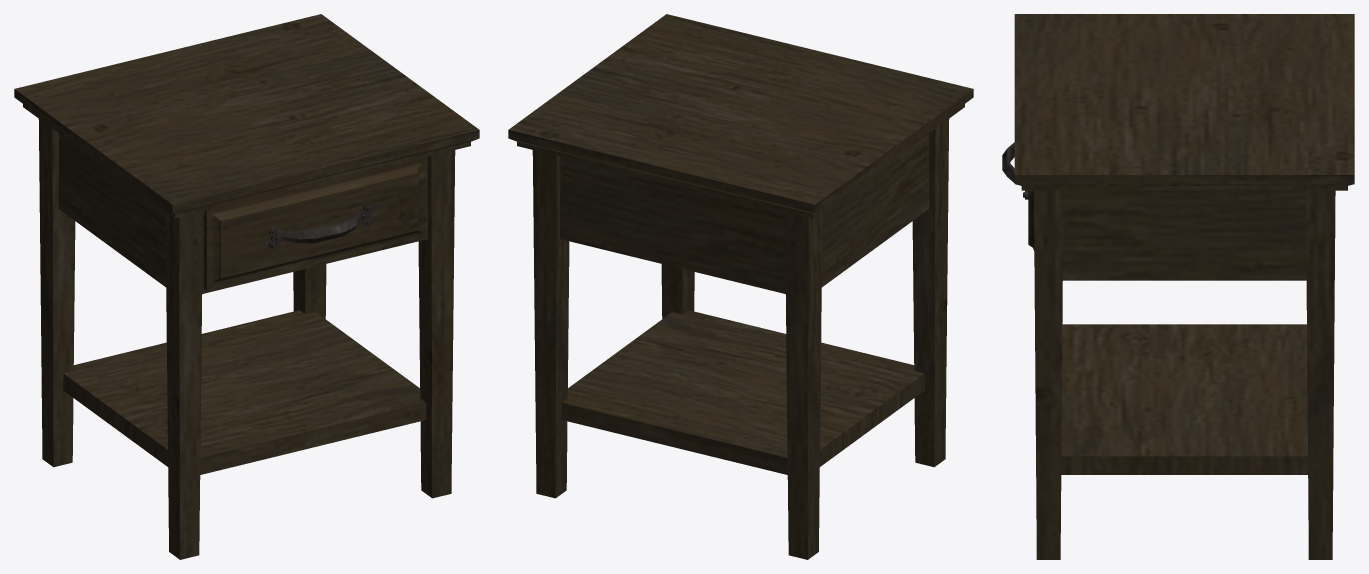
File: bedside_table_1_4.obj
3 renders of one model, left to right at view 1: azimuth 30°, elevation 25°; view 2: azimuth 150°, elevation 25°; view 3: azimuth 270°, elevation 25°, orthographic. The views are drawn at different scales.
Parts seen in each view (by area): view 1: bedside_table_1_4, bedside_table_1_4_drawer; view 2: bedside_table_1_4; view 3: bedside_table_1_4, bedside_table_1_4_drawer.
Boxes of the visible parts, bbox=[...] form: bedside_table_1_4: bbox=[14, 14, 479, 559]; bedside_table_1_4_drawer: bbox=[203, 157, 426, 290]; bedside_table_1_4: bbox=[508, 14, 973, 559]; bedside_table_1_4: bbox=[1014, 14, 1354, 559]; bedside_table_1_4_drawer: bbox=[1002, 142, 1034, 250].
Size of the model in its own units: 0.56 by 0.64 by 0.5183.
